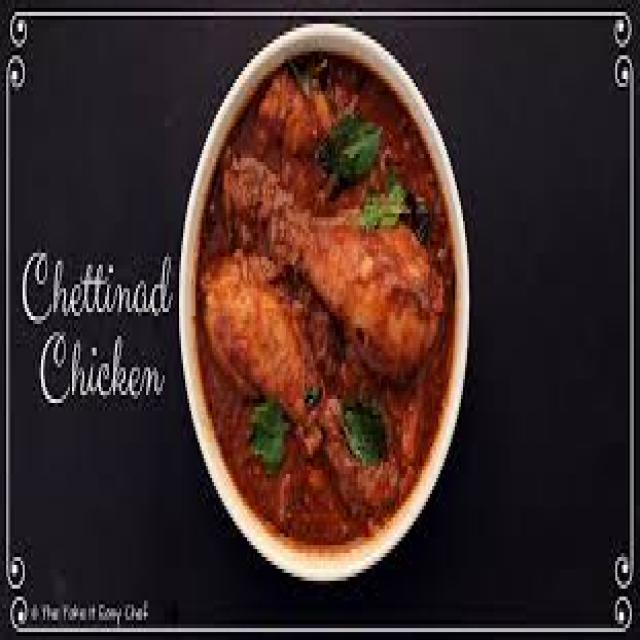Frango: (193, 51, 461, 561)
